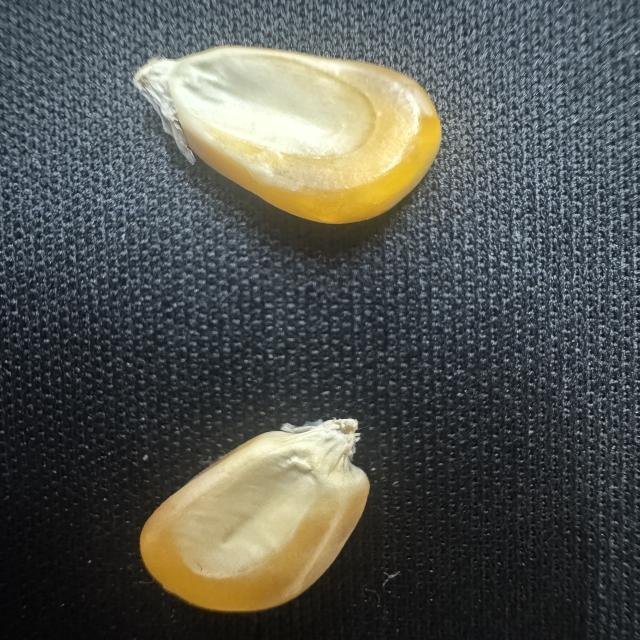Good-Seed: (132, 39, 446, 228), (133, 415, 374, 616)
